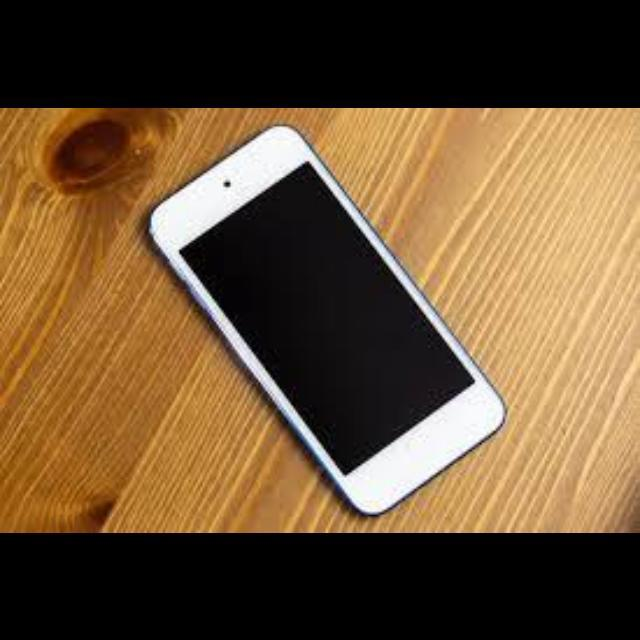Phone: (149, 121, 507, 511)
